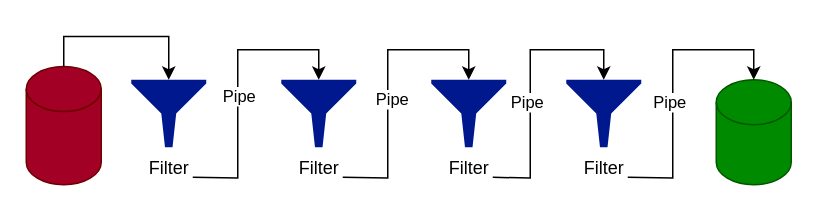
The diagram is 818 pixels wide and 218 high, and some of its shapes have lost their labels. Each missing label, with the centre of its shape:
"Pump" belongs at point 63,125.
"Sink" belongs at point 753,131.
